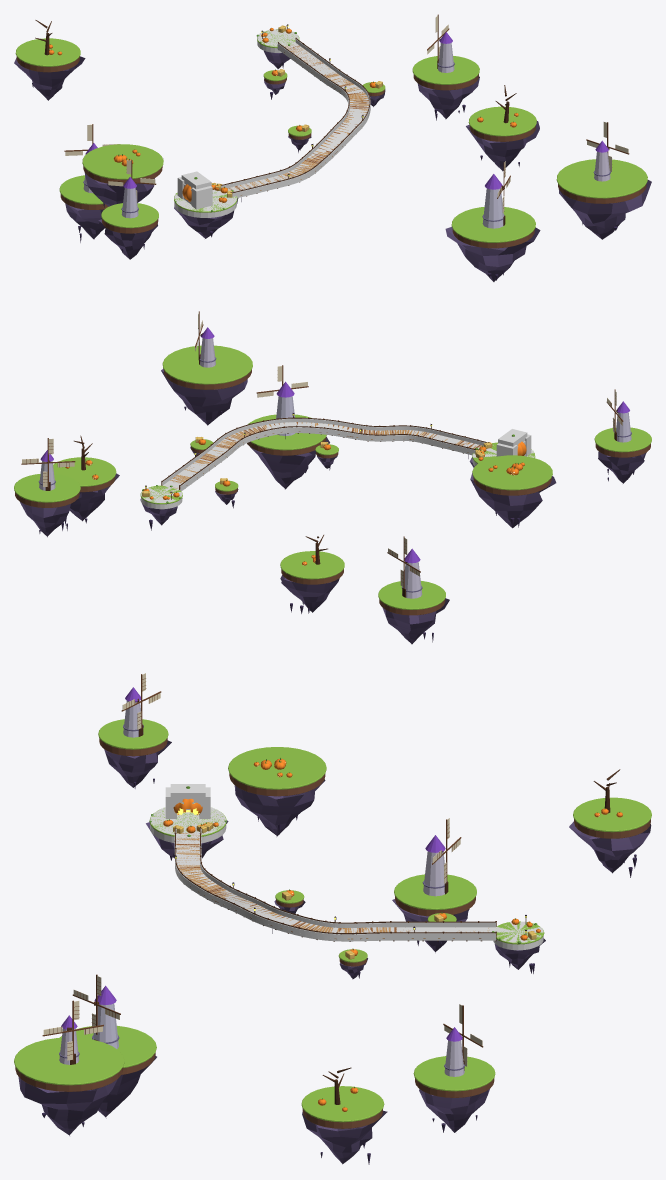
3 renders of one model, top to bottom at view 1: azimuth 30°, elevation 25°; view 2: azimuth 150°, elevation 25°; view 3: azimuth 270°, elevation 25°, orthographic. The views are drawn at different scales.
Visible parts, largest first — view 1: V_grass, V_rock, C_0, V_dirt, V_stone_light, V_beam_dark, V_plank, C_1, V_pumpkin, V_cloth_purple, V_plank_dark; view 2: V_grass, V_rock, C_0, V_dirt, V_stone_light, V_beam_dark, V_plank, C_1, V_pumpkin, V_cloth_purple; view 3: V_grass, V_rock, C_0, V_dirt, V_stone_light, V_beam_dark, V_plank, V_pumpkin, C_1, V_cloth_purple.
Part boxes in pixels (bbox=[...]): V_grass: bbox=[15, 29, 647, 242]; V_rock: bbox=[14, 50, 651, 281]; C_0: bbox=[174, 29, 370, 217]; V_dirt: bbox=[16, 56, 646, 248]; V_stone_light: bbox=[83, 43, 610, 228]; V_beam_dark: bbox=[35, 20, 516, 225]; V_plank: bbox=[227, 45, 368, 195]; C_1: bbox=[177, 171, 212, 209]; V_pumpkin: bbox=[49, 28, 518, 202]; V_cloth_purple: bbox=[85, 32, 608, 189]; V_plank_dark: bbox=[229, 45, 368, 191]; V_grass: bbox=[14, 345, 651, 609]; V_rock: bbox=[20, 369, 646, 644]; C_0: bbox=[141, 418, 534, 509]; V_dirt: bbox=[15, 369, 650, 615]; V_stone_light: bbox=[39, 338, 631, 598]; V_beam_dark: bbox=[45, 354, 616, 597]; V_plank: bbox=[169, 422, 482, 488]; C_1: bbox=[496, 429, 531, 456]; V_pumpkin: bbox=[65, 439, 526, 565]; V_cloth_purple: bbox=[40, 327, 629, 563]; V_grass: bbox=[14, 719, 651, 1122]; V_rock: bbox=[18, 740, 651, 1164]; C_0: bbox=[150, 807, 543, 950]; V_dirt: bbox=[15, 738, 650, 1128]; V_stone_light: bbox=[59, 700, 464, 1076]; V_beam_dark: bbox=[70, 724, 620, 1104]; V_plank: bbox=[176, 833, 489, 939]; V_pumpkin: bbox=[163, 758, 622, 1111]; C_1: bbox=[165, 784, 210, 818]; V_cloth_purple: bbox=[61, 687, 462, 1041].
Size of the model in its own units: 114 by 41.48 by 100.
